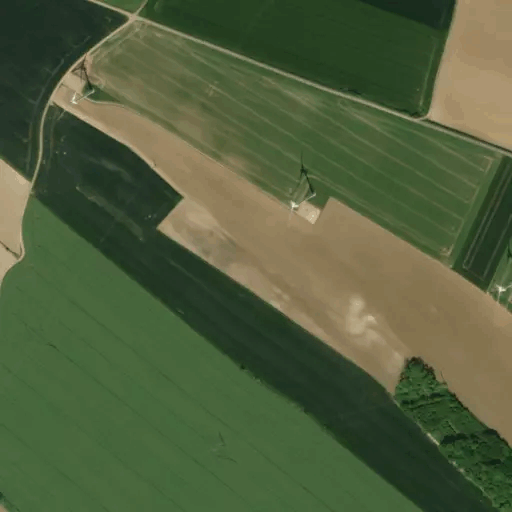wt: (56, 53, 104, 121), (283, 146, 324, 223), (479, 244, 512, 317)
